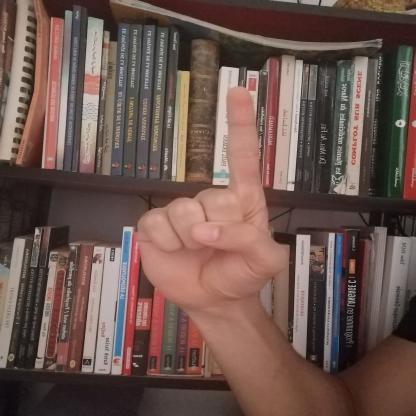BAA: (126, 72, 298, 319)
